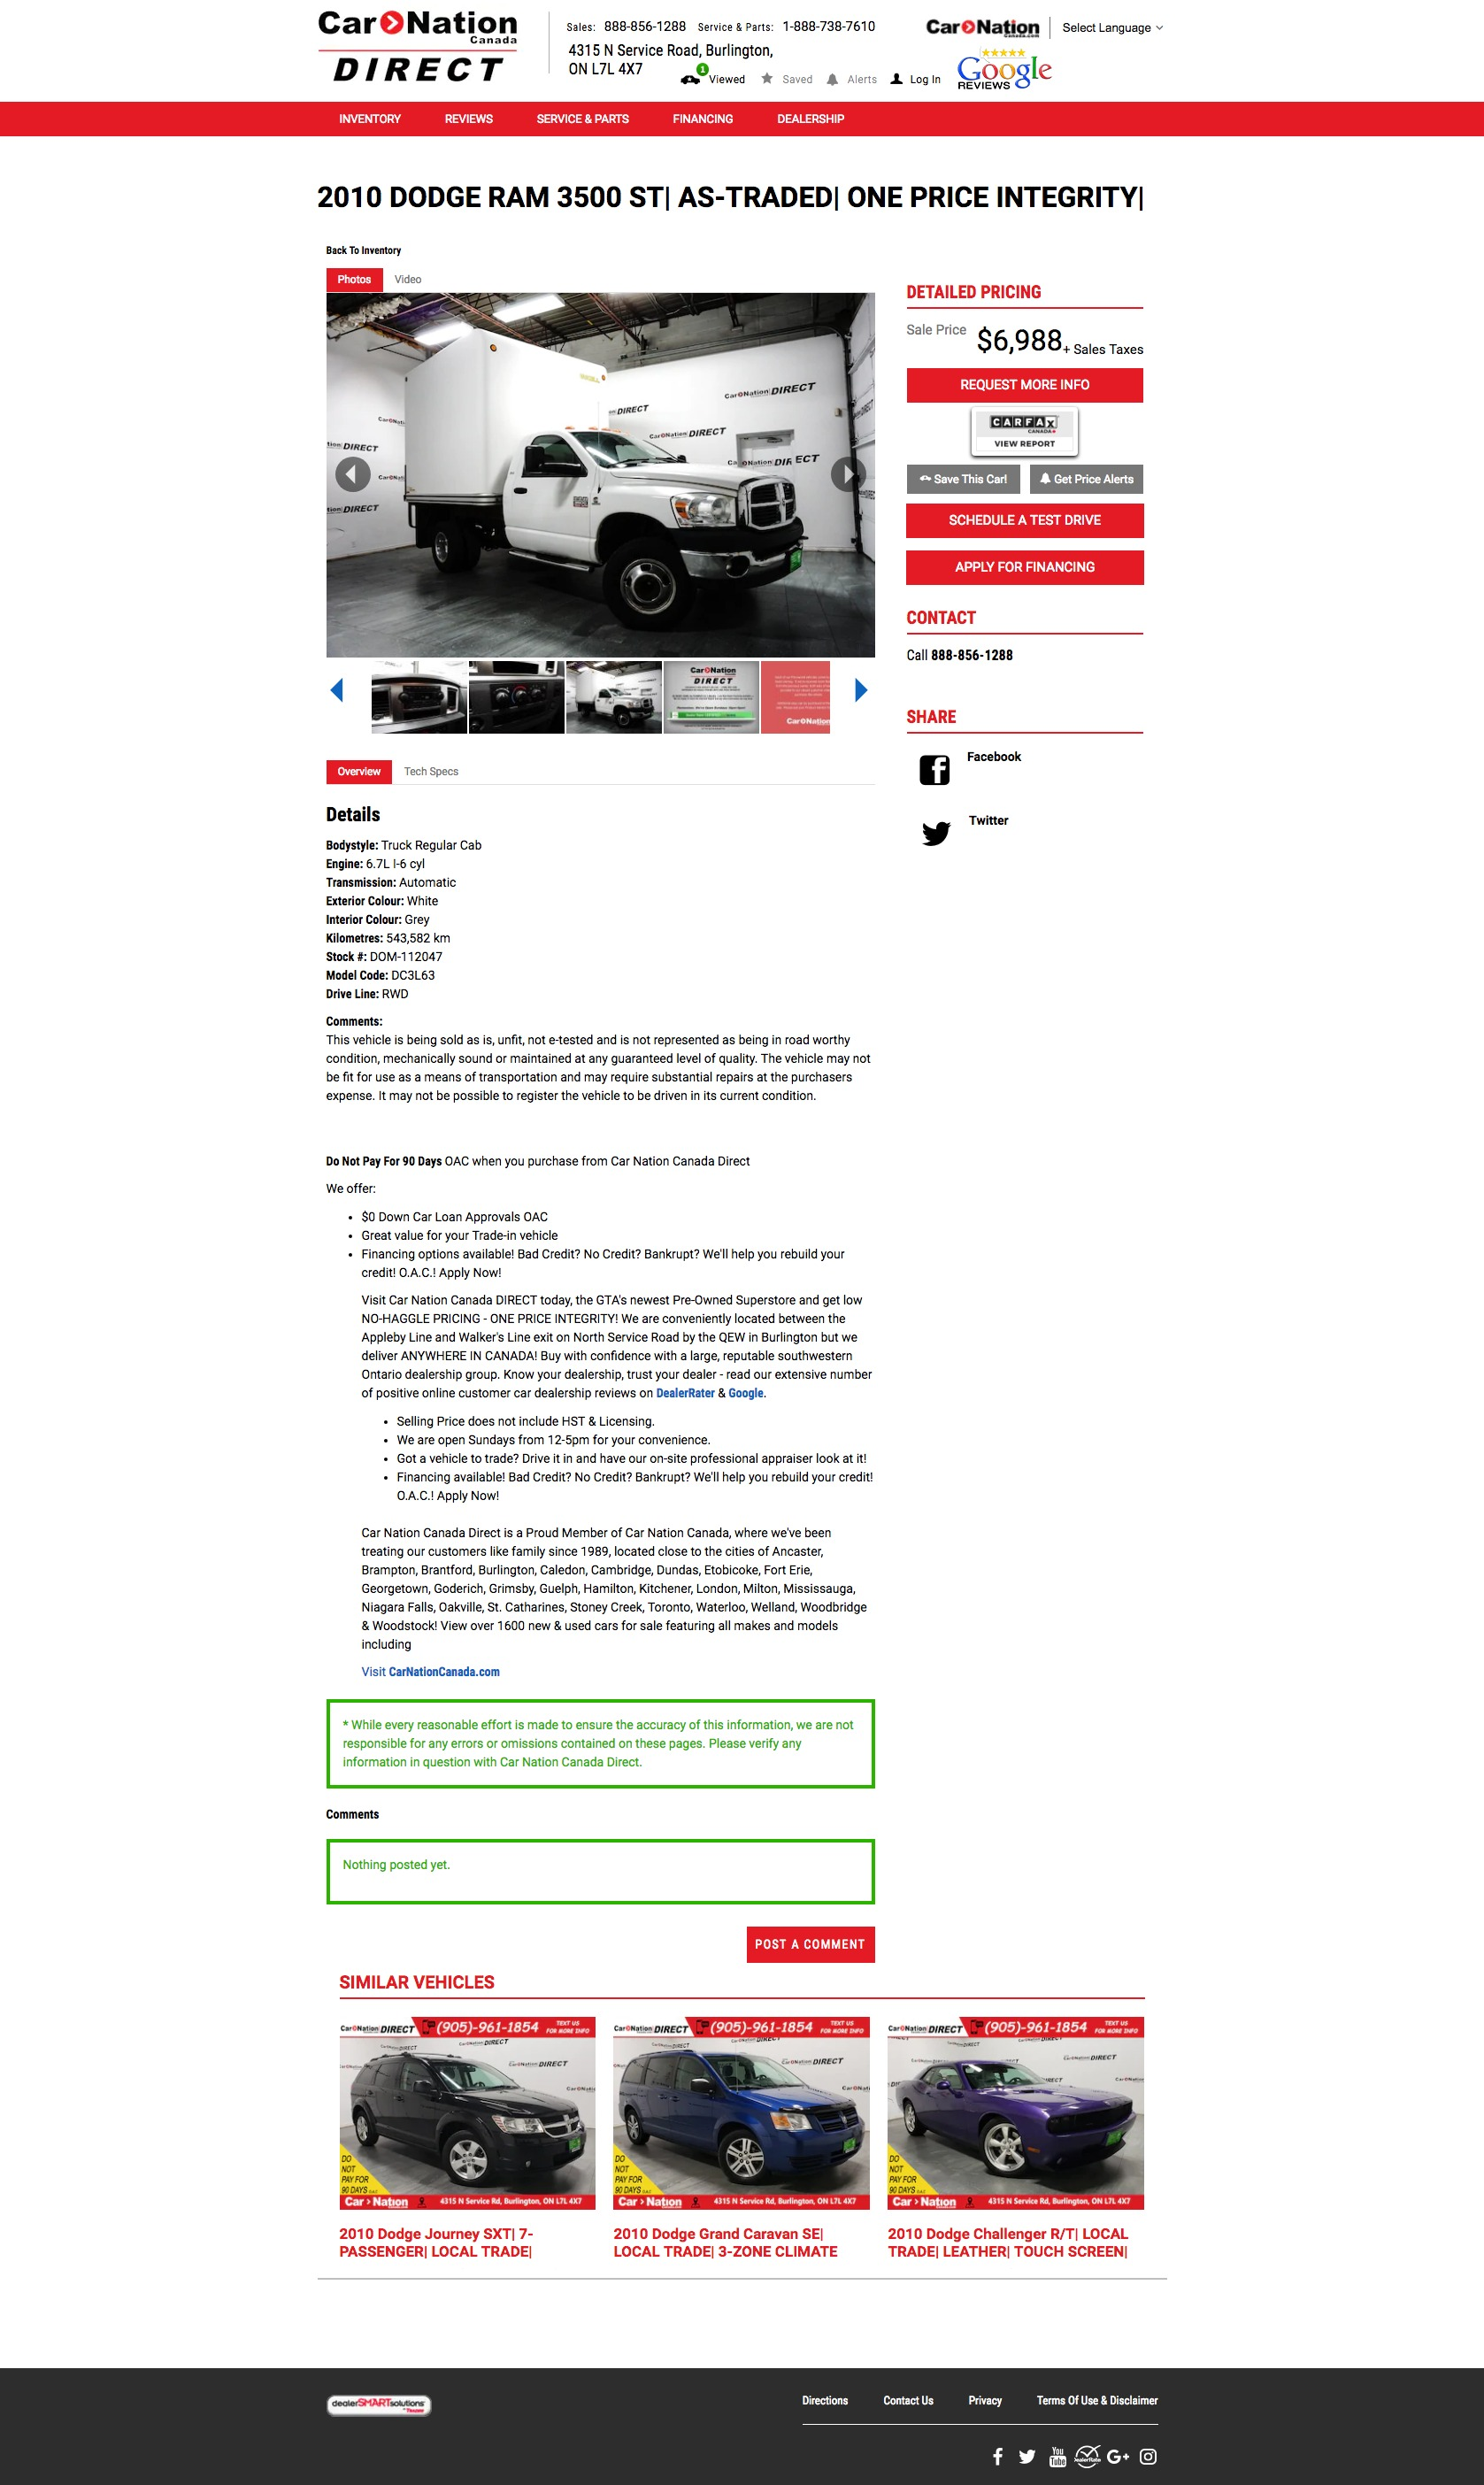car: (853, 680, 869, 703)
